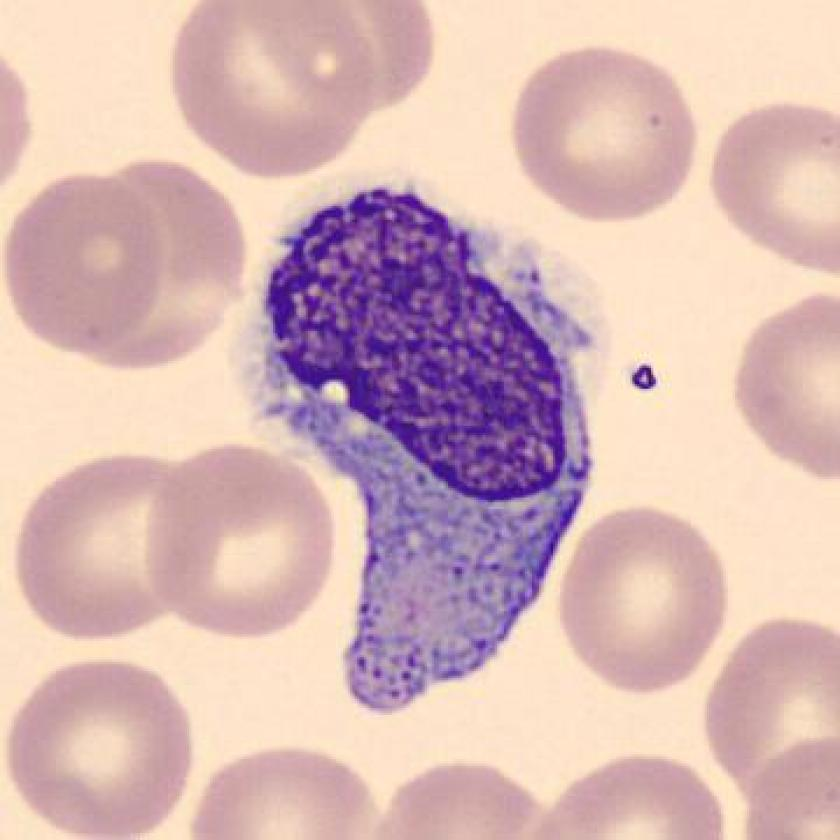monocyte: (218, 170, 626, 730)
